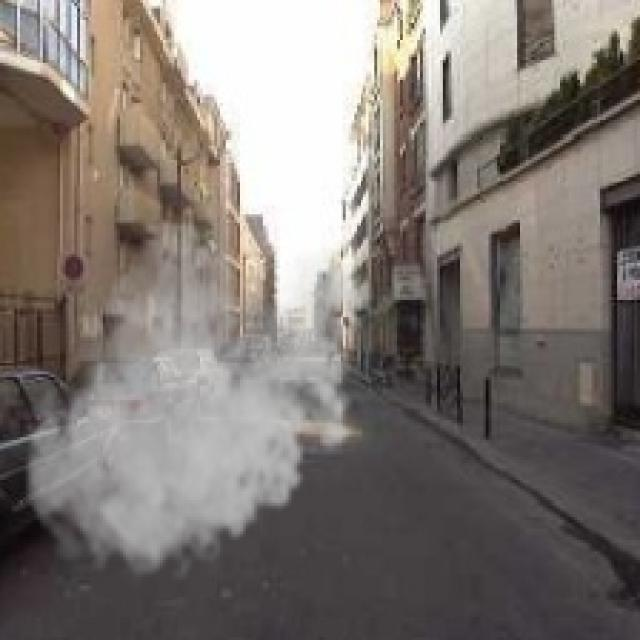smoke: (17, 220, 374, 589)
